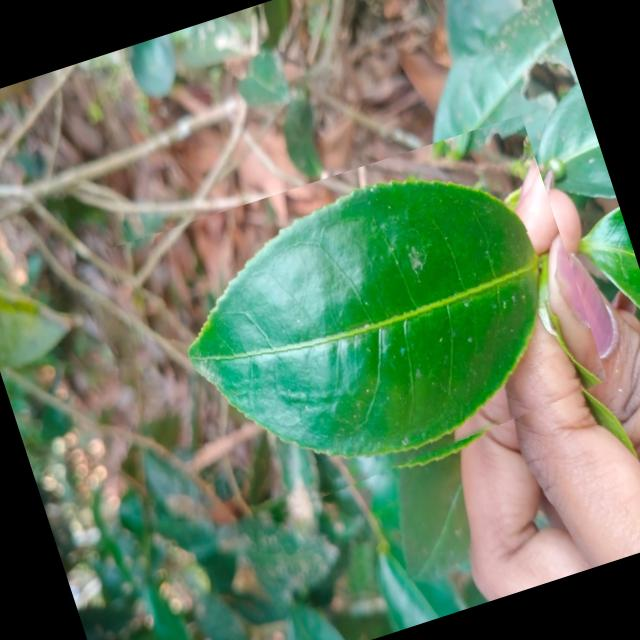Category D(7+ days, Not for Tea): (103, 114, 618, 546)
